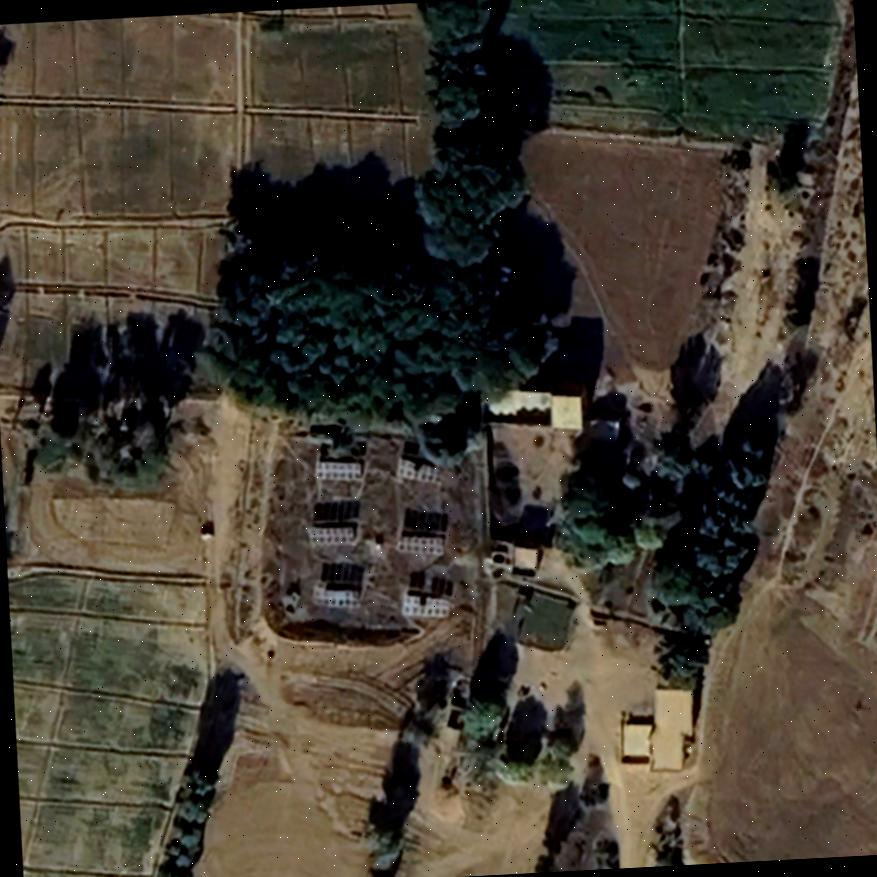Solarpanel: (399, 586, 456, 622), (395, 454, 451, 483), (305, 521, 361, 549), (393, 531, 447, 559), (309, 457, 365, 481), (311, 585, 365, 607)
